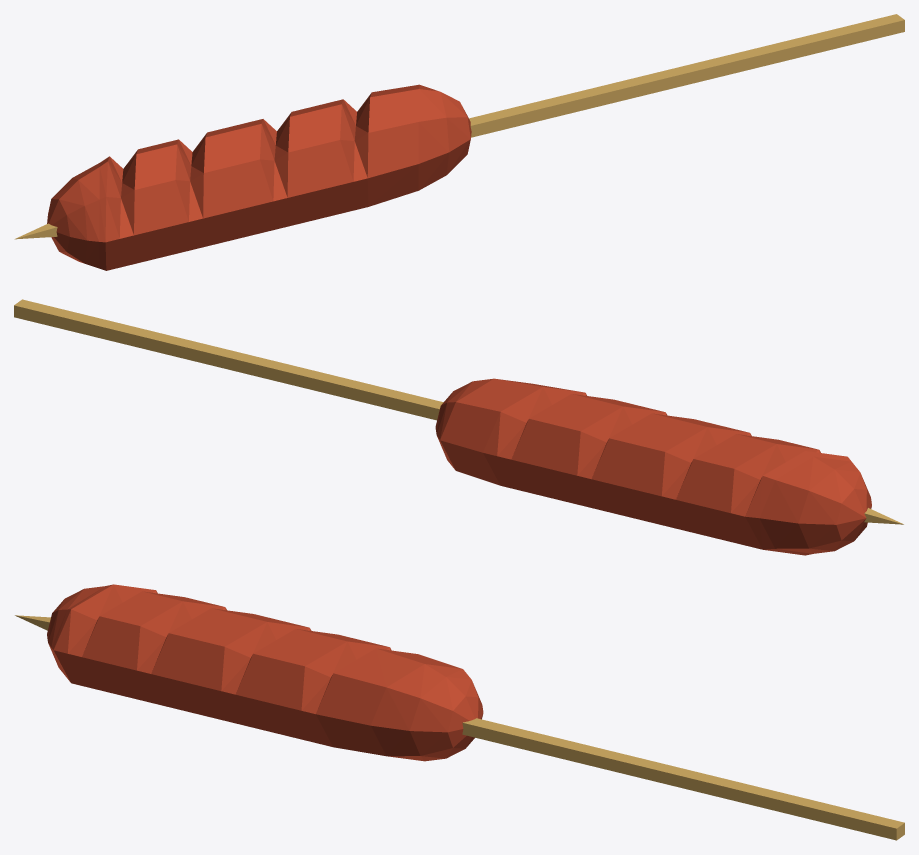
Rendered from SM_Cook_SkewerSausage_Raw_01.fbx.
3 views of the same model, one above another, from view 1: azimuth 30°, elevation 25°; view 2: azimuth 150°, elevation 25°; view 3: azimuth 330°, elevation 25° (orthographic).
Parts seen in each view (by area): view 1: SM_Cook_SkewerSausage_Raw_01; view 2: SM_Cook_SkewerSausage_Raw_01; view 3: SM_Cook_SkewerSausage_Raw_01.
Boxes of the visible parts, left/top/right/bottom form: SM_Cook_SkewerSausage_Raw_01: left=14, top=14, right=904, bottom=270; SM_Cook_SkewerSausage_Raw_01: left=14, top=299, right=903, bottom=555; SM_Cook_SkewerSausage_Raw_01: left=15, top=584, right=904, bottom=840.
Bounding box in the file's own units: 0.25 × 0.0282 × 0.0282.
Materials: 1 (1 with a texture image).
